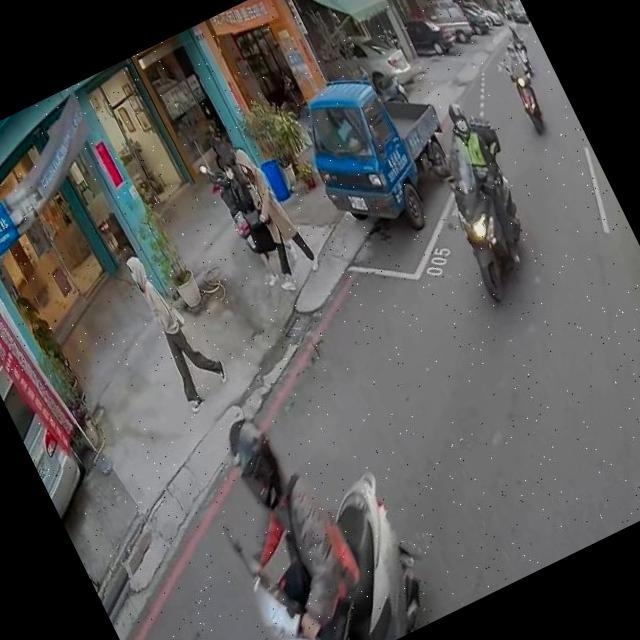person: (179, 388, 398, 640), (412, 93, 543, 280), (112, 232, 239, 414), (212, 128, 329, 298), (199, 136, 308, 292), (492, 36, 534, 90), (502, 18, 528, 56)
